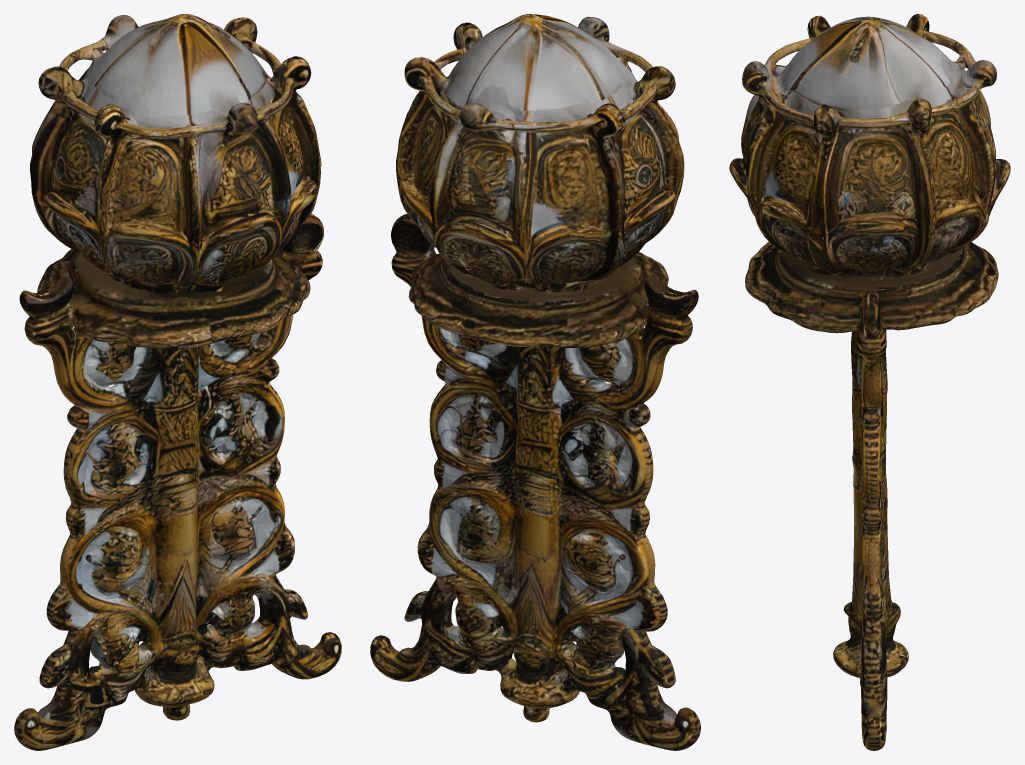
The picture shows the model from 3 angles, left to right: view 1: azimuth 30°, elevation 25°; view 2: azimuth 150°, elevation 25°; view 3: azimuth 270°, elevation 25°; orthographic projection. The views are drawn at different scales.
Parts seen in each view (by area): view 1: textured_mesh; view 2: textured_mesh; view 3: textured_mesh.
Part boxes in pixels (box(x1,y1,x2,y2)): textured_mesh: box(14, 14, 341, 750); textured_mesh: box(370, 14, 700, 750); textured_mesh: box(729, 14, 1010, 750).
Bounding box in the file's own units: 0.9726 × 2 × 0.7577.
1 material, 1 textured.
